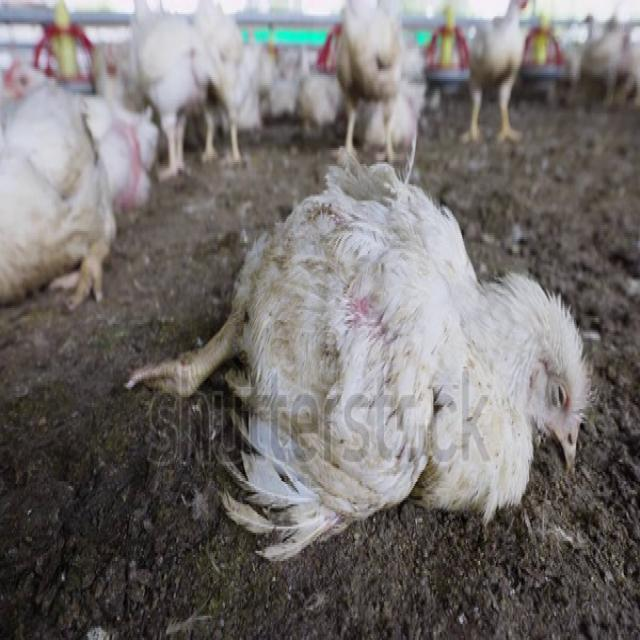injured-animals: (122, 146, 595, 567)
